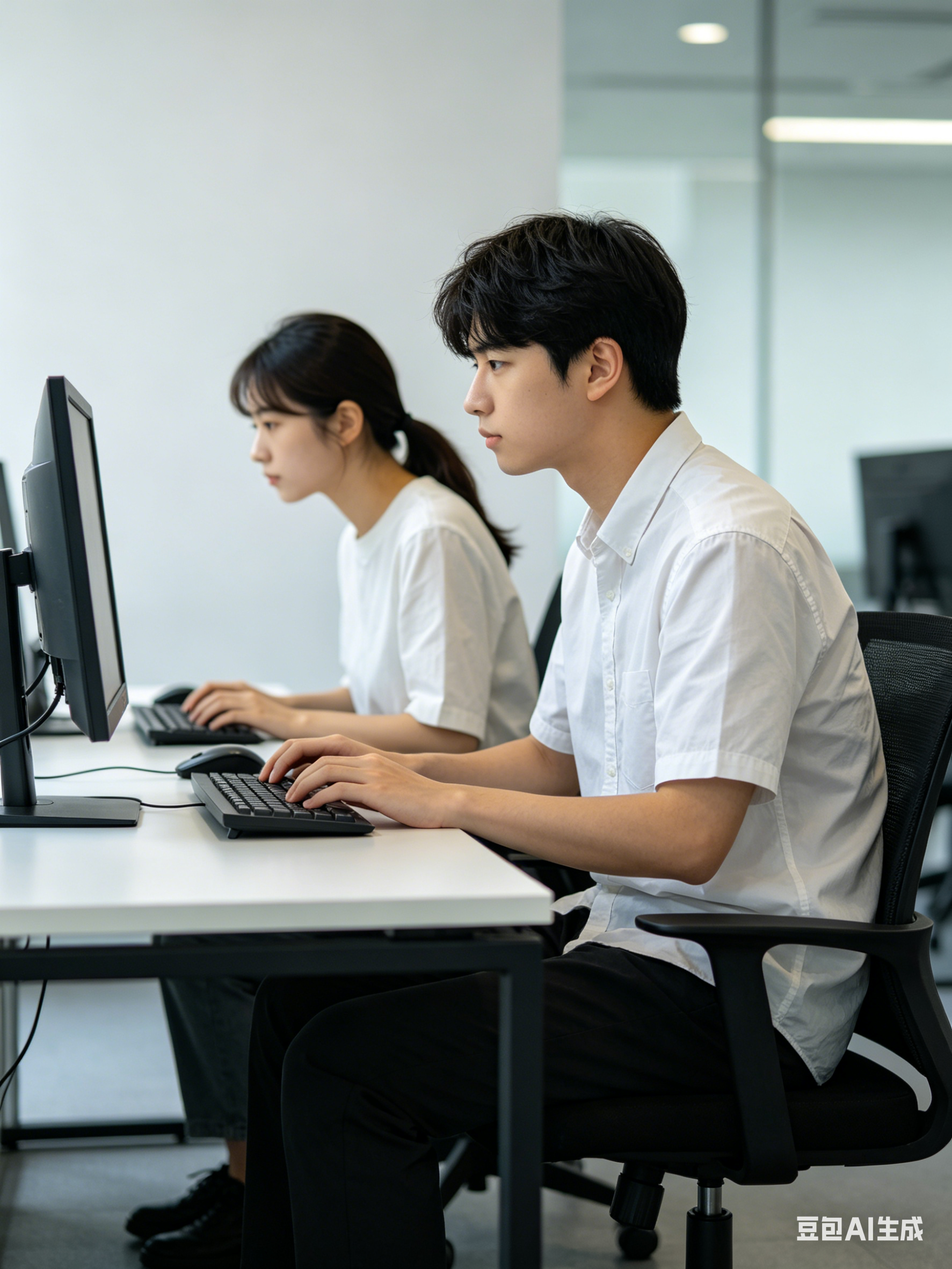sitting_good: (413, 215, 929, 954), (202, 285, 515, 801)
